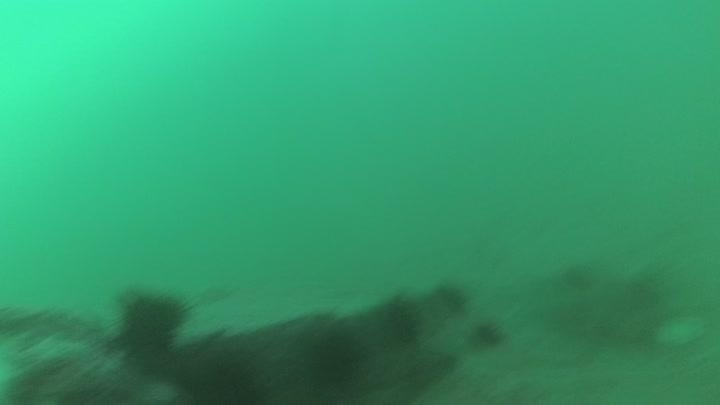echinus: (112, 285, 193, 359), (175, 347, 270, 404), (302, 326, 370, 393), (380, 295, 425, 345), (430, 279, 470, 315), (469, 317, 506, 349), (561, 267, 598, 299)
